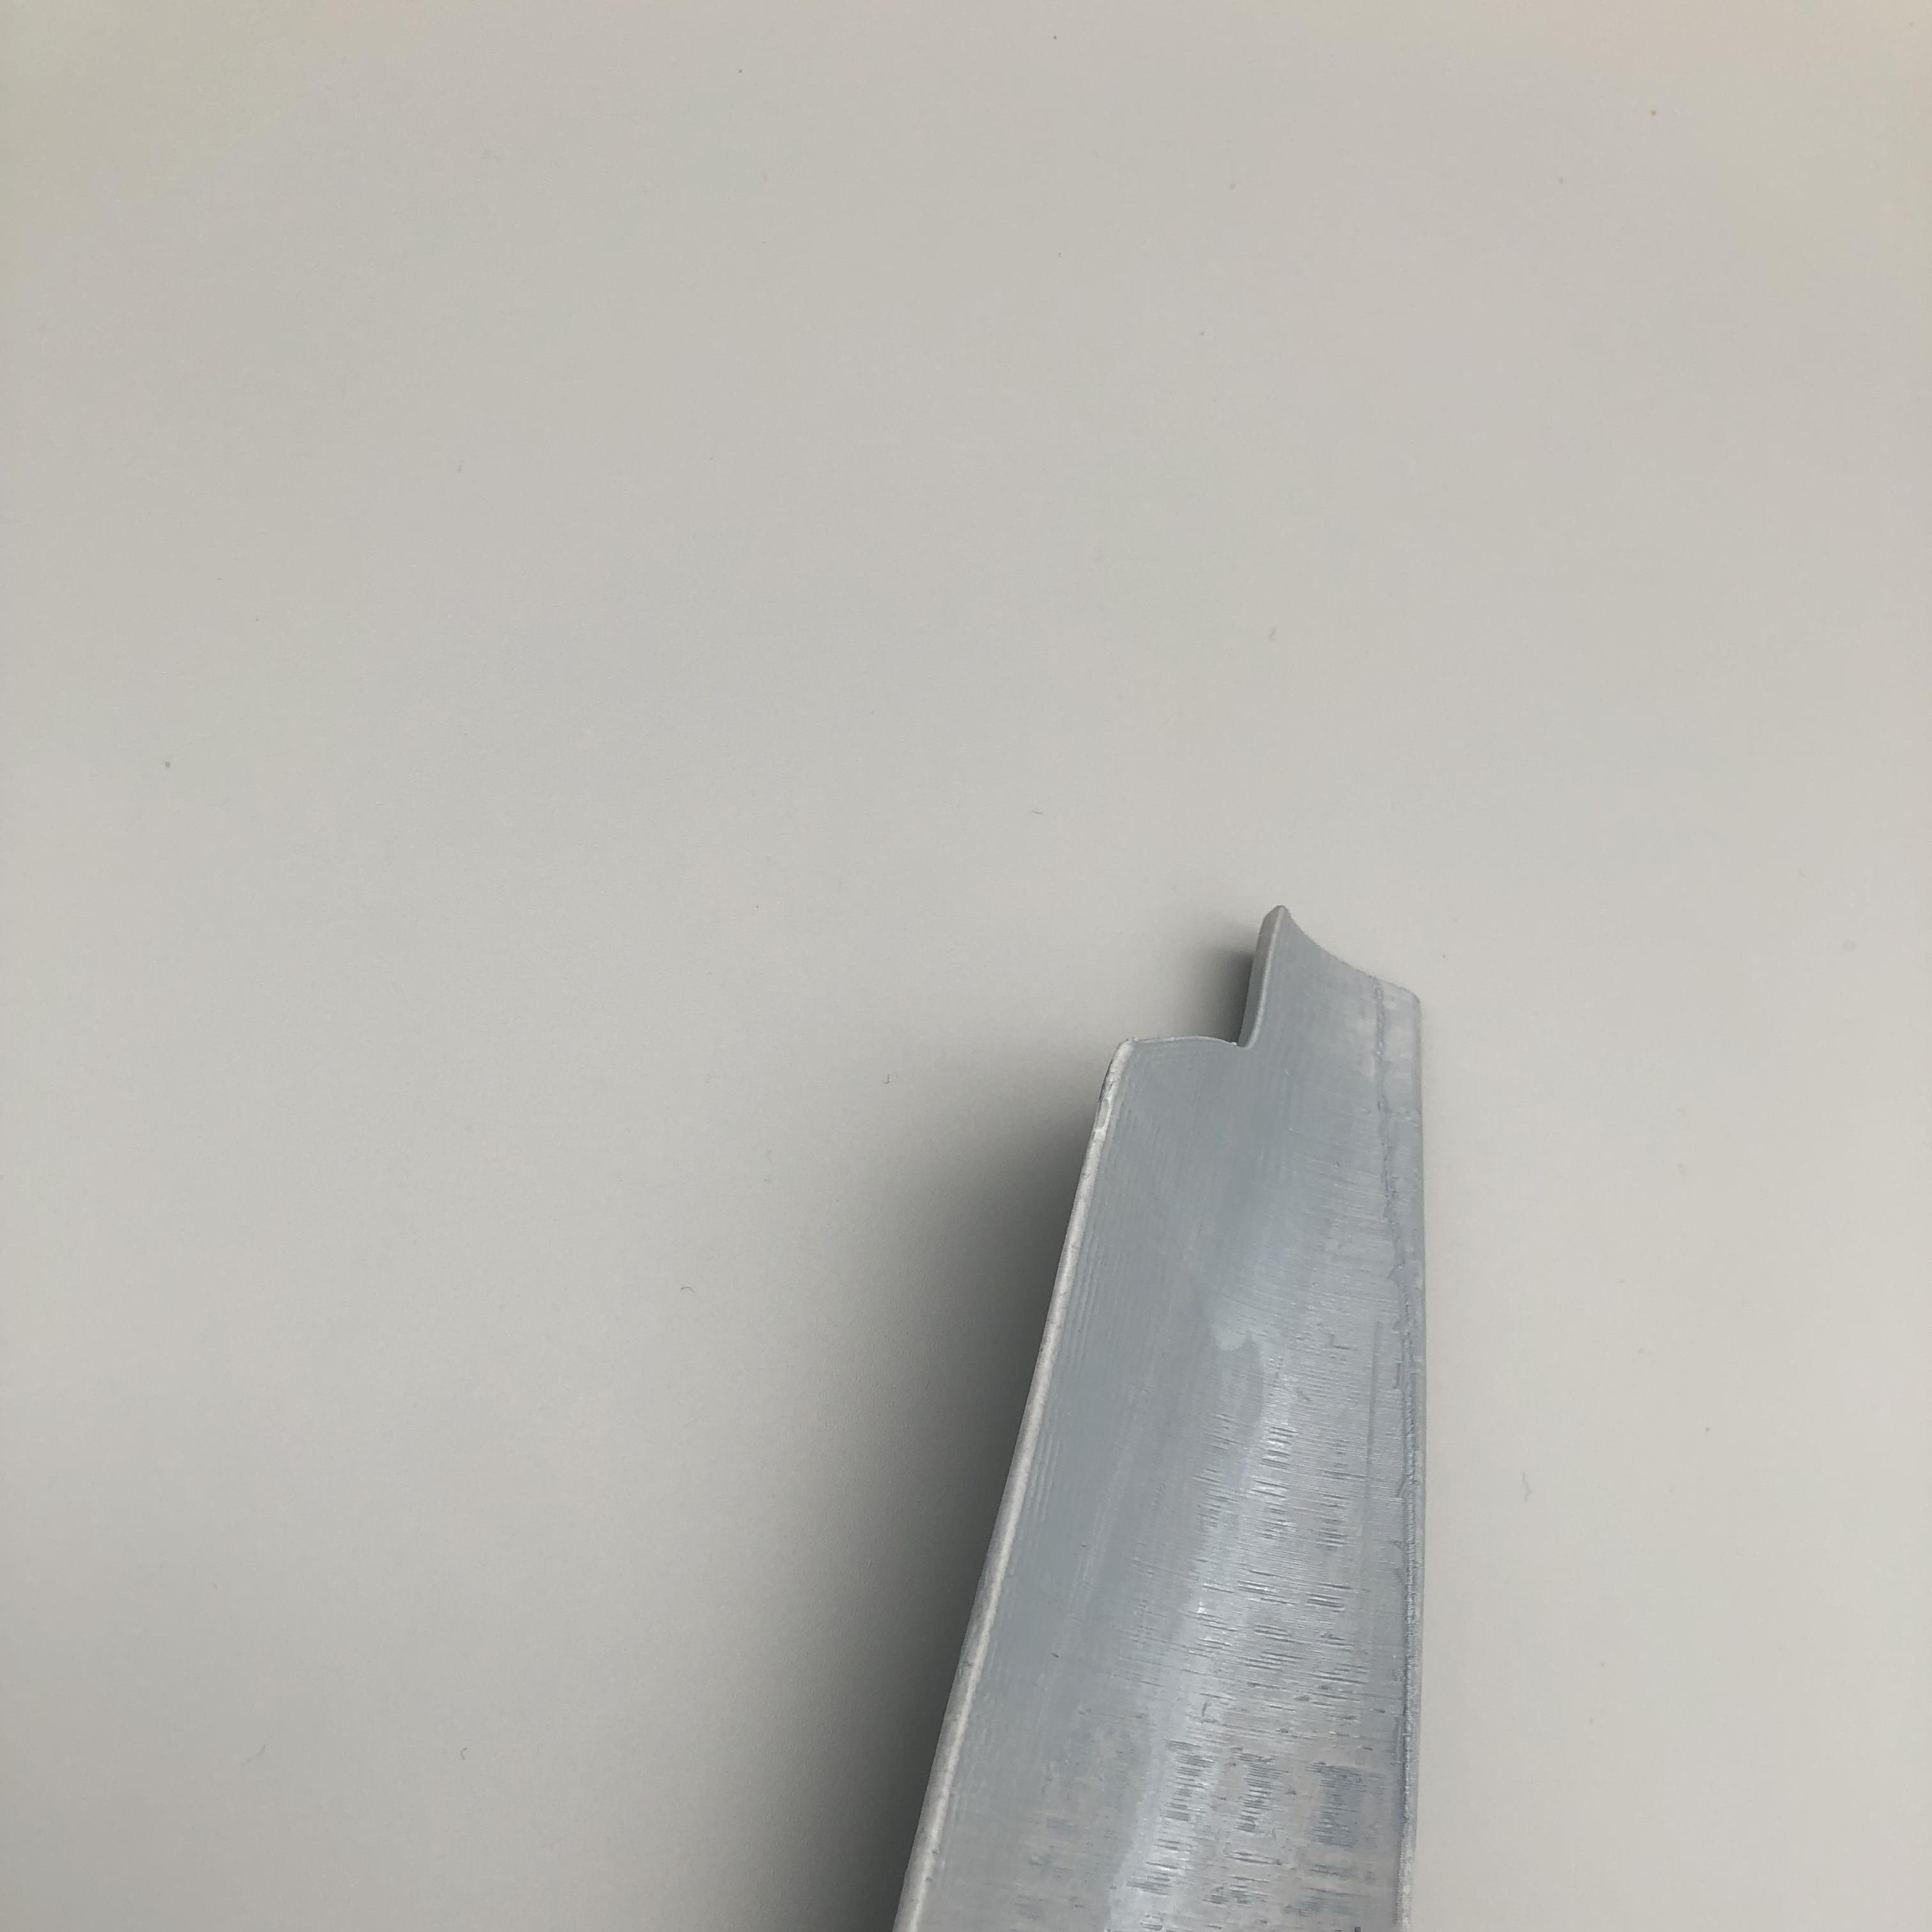fracture: (1111, 902, 1304, 1065)
